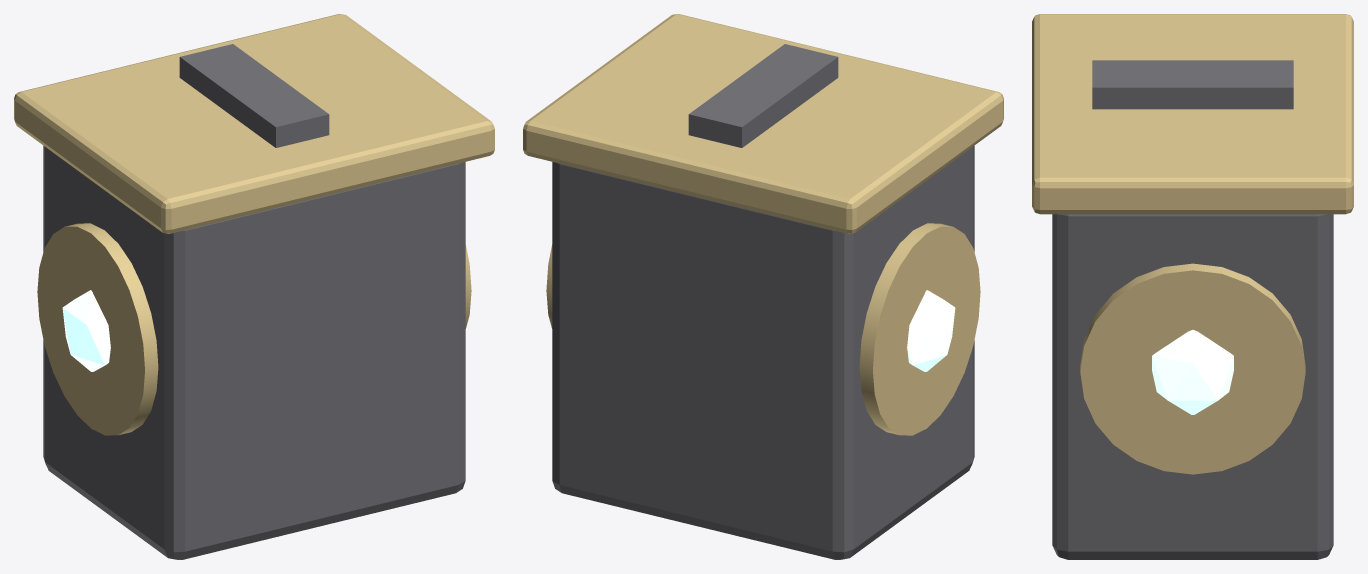
Rendered from AlavancaBase.fbx.
3 renders of one model, left to right at view 1: azimuth 30°, elevation 25°; view 2: azimuth 150°, elevation 25°; view 3: azimuth 270°, elevation 25°, orthographic. The views are drawn at different scales.
Parts seen in each view (by area): view 1: AlavancaBase; view 2: AlavancaBase; view 3: AlavancaBase.
Part boxes in pixels (bbox=[...]): AlavancaBase: bbox=[14, 14, 494, 559]; AlavancaBase: bbox=[523, 14, 1003, 559]; AlavancaBase: bbox=[1032, 14, 1353, 559].
Bounding box in the file's own units: 1.1 × 1.14 × 0.8.
